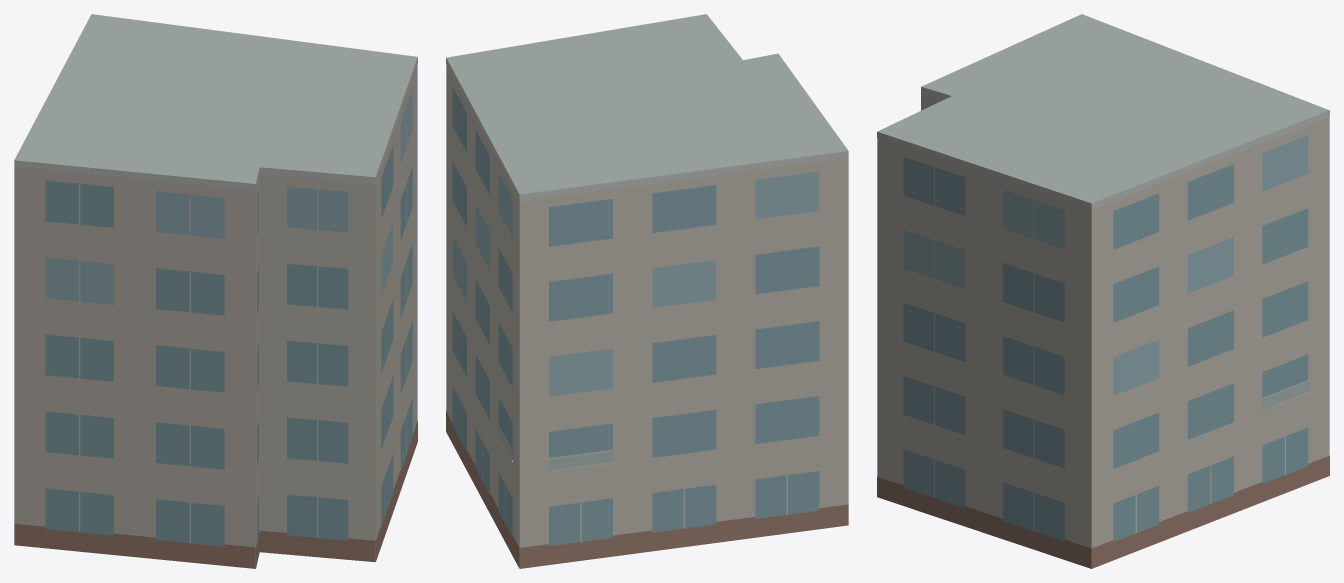
Rendered from survey-upis-32563164.glb.
The picture shows the model from 3 angles, left to right: view 1: azimuth 30°, elevation 25°; view 2: azimuth 150°, elevation 25°; view 3: azimuth 270°, elevation 25°; orthographic projection. The views are drawn at different scales.
Parts seen in each view (by area): view 1: survey-upis-32563164.tmp; view 2: survey-upis-32563164.tmp; view 3: survey-upis-32563164.tmp.
Boxes of the visible parts, x1,y1,x2,y2 form: survey-upis-32563164.tmp: (14,14,417,568); survey-upis-32563164.tmp: (446,14,848,568); survey-upis-32563164.tmp: (877,14,1329,568).
Bounding box in the file's own units: 15.73 × 14.15 × 15.89.
